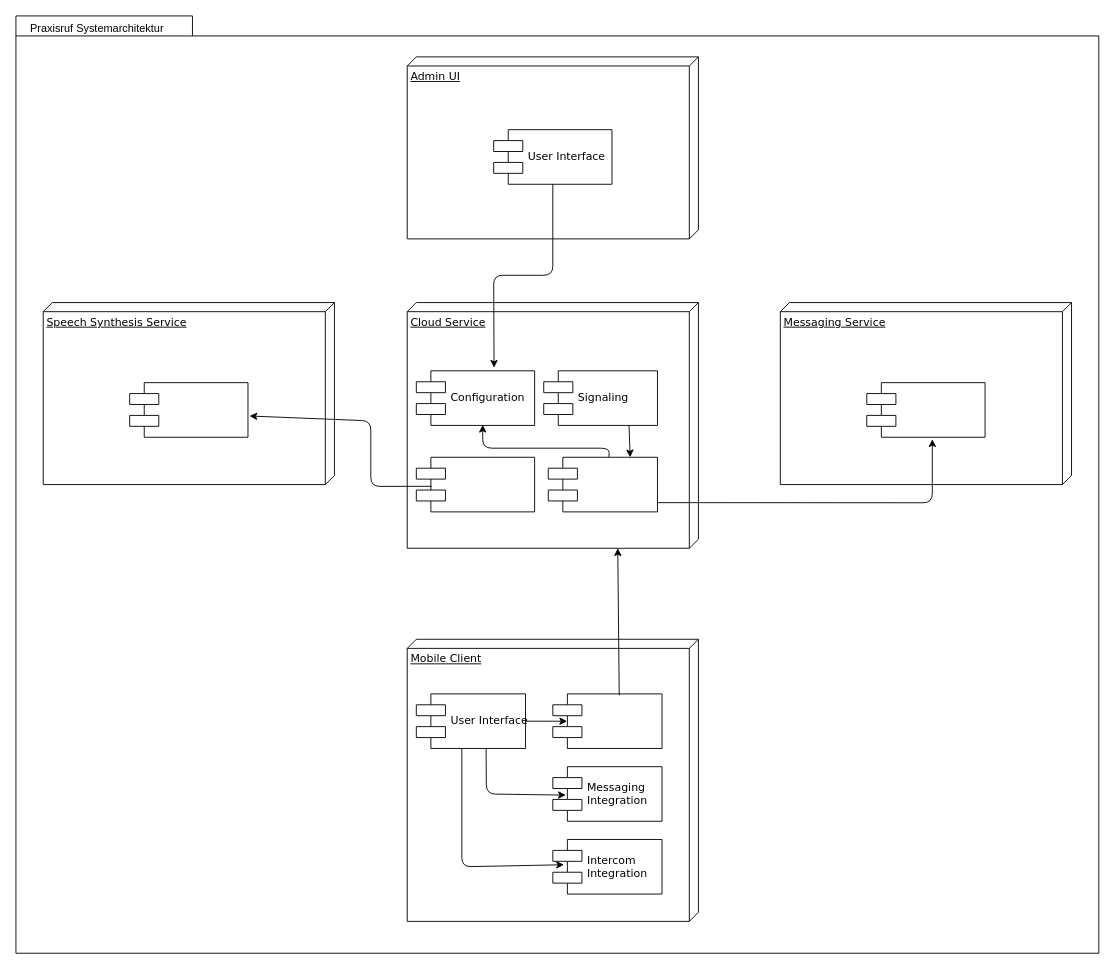
Image size: 1115x969. Some labels were removed from this diagram. The shapes that lost their labels are listed below. From the top down, each one's centre as x and y in pixels, then its label:
the point at 188,409: AWS Polly
the point at 925,409: Firebase Messaging
the point at 475,484: Speech Synthesis
the point at 602,484: Notification
the point at 607,720: Cloud API Integration
